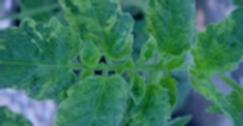Tomato leaf mosaic virus: (0, 17, 88, 103), (57, 0, 134, 65), (54, 69, 137, 126), (185, 0, 243, 80), (145, 0, 198, 59)
